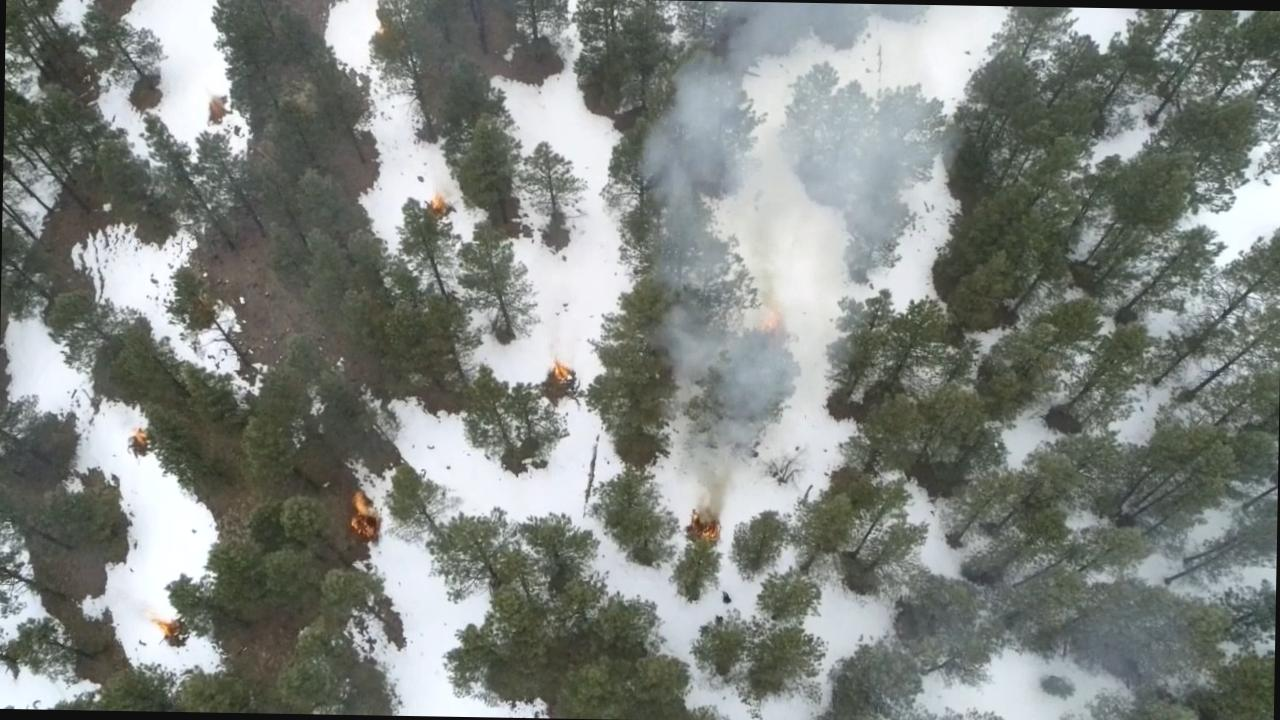fire: (342, 494, 383, 550), (752, 288, 792, 344), (684, 500, 728, 548), (540, 356, 571, 391), (421, 196, 450, 221)
smoke: (636, 0, 982, 240), (646, 236, 854, 421)
